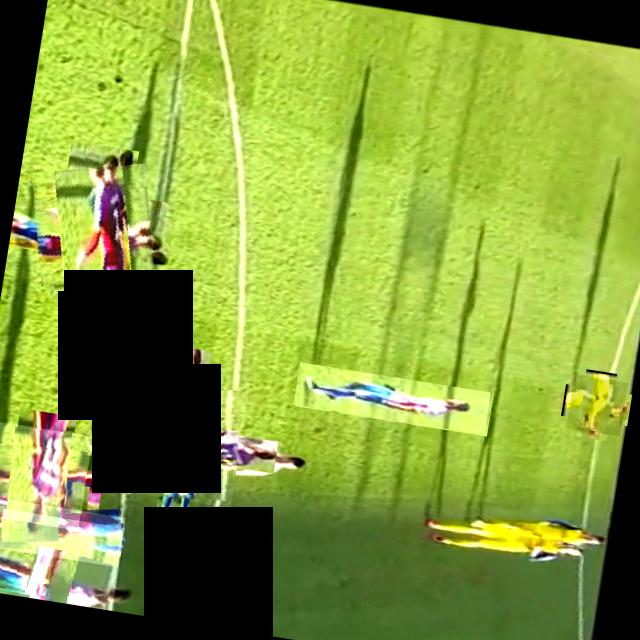soccer-player: (20, 153, 164, 297), (115, 376, 248, 508), (292, 362, 492, 437), (0, 509, 124, 611), (0, 421, 92, 530), (0, 493, 124, 567), (565, 374, 627, 436)
